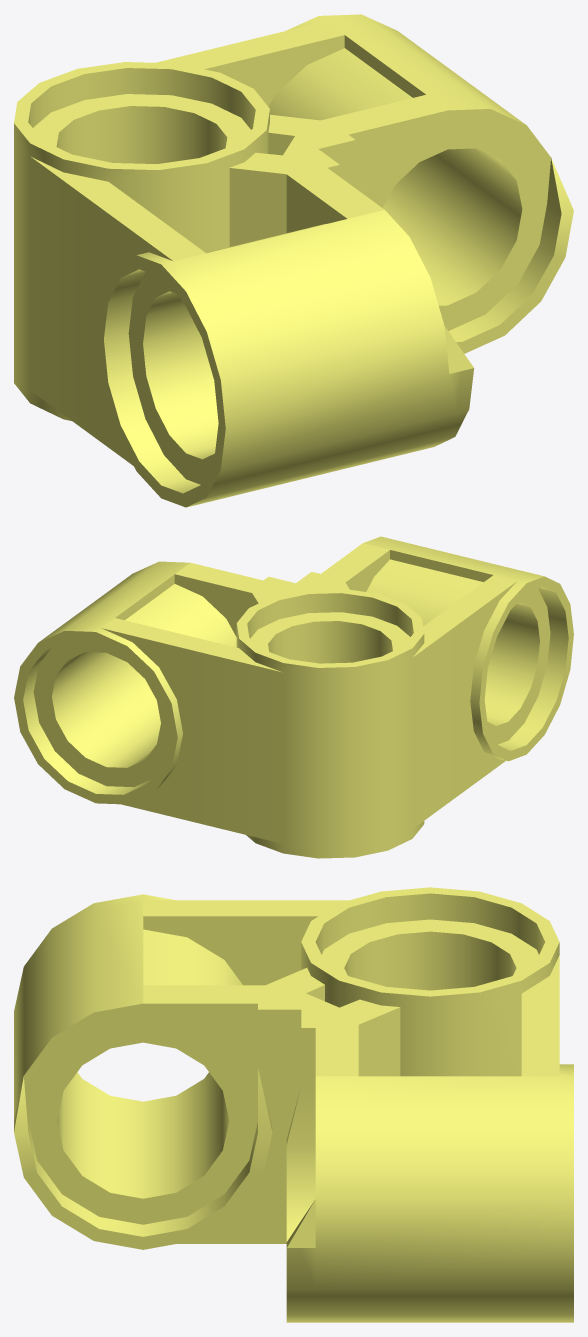
The picture shows the model from 3 angles, top to bottom: view 1: azimuth 30°, elevation 25°; view 2: azimuth 150°, elevation 25°; view 3: azimuth 270°, elevation 25°; orthographic projection. The views are drawn at different scales.
Parts seen in each view (by area): view 1: 44809.dat; view 2: 44809.dat; view 3: 44809.dat.
Boxes of the visible parts, box(x1,y1,x2,y2) form: 44809.dat: box(14, 14, 573, 507); 44809.dat: box(14, 536, 573, 858); 44809.dat: box(14, 887, 573, 1322).
Size of the model in its own units: 0.0156 by 0.008 by 0.0156.
